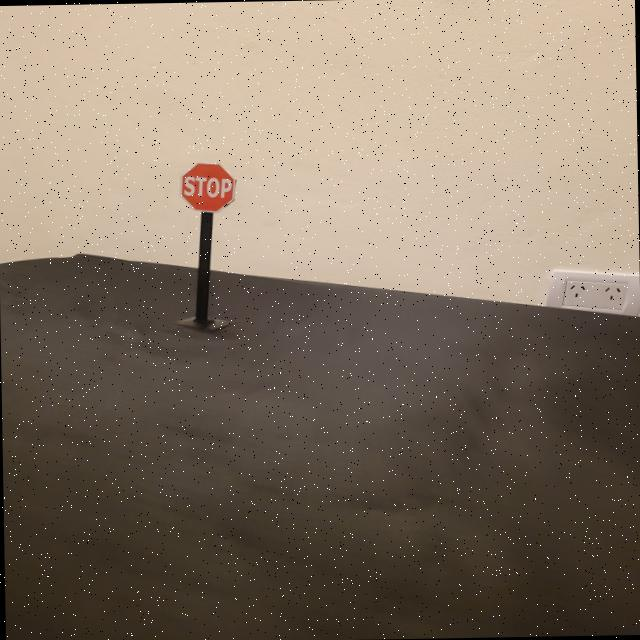stop: (178, 160, 236, 213)
